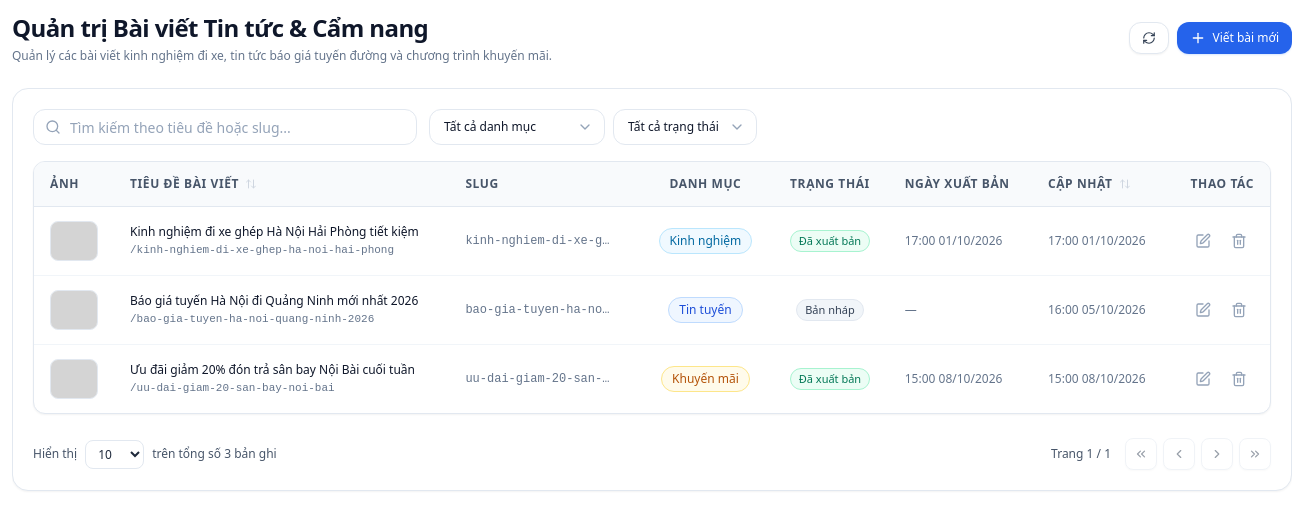
Articles Module (Task T112) › ArticleList Component › lọc bài viết theo danh mục (category)
The width and height of the screenshot is (1304, 508).
Expected: the link "Kinh nghiệm đi xe ghép Hà Nội Hải Phòng tiết kiệm" is shown, [130,224,433,240]
Note: Chọn danh mục "Kinh nghiệm"
Select "Kinh nghiệm" in the dropdown with test id "filter-category-select" at (517, 127), box [429,109,605,145]
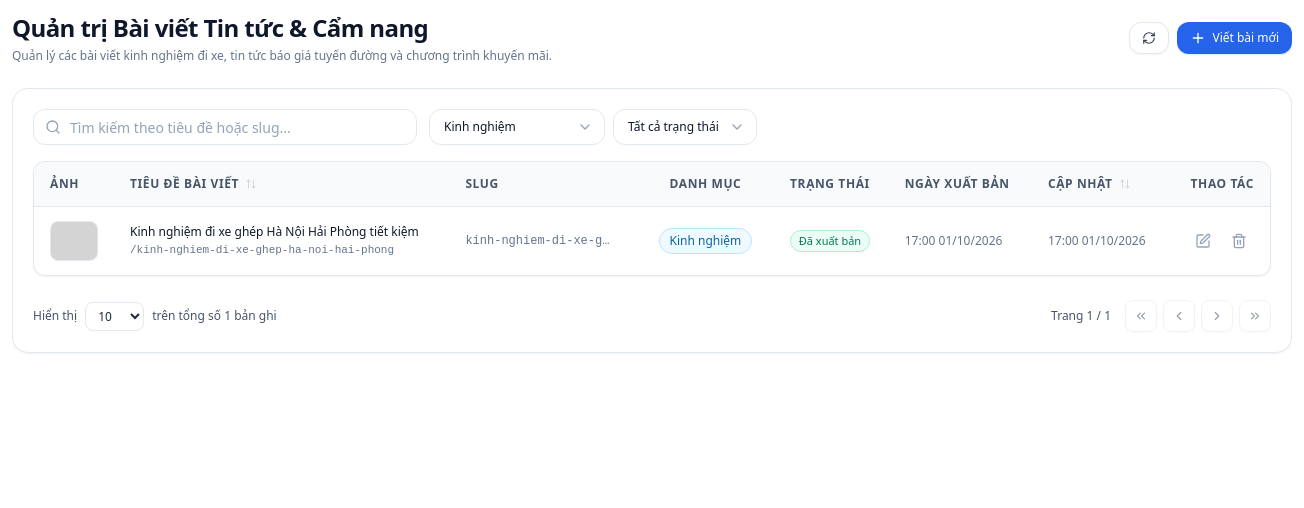
Expected: the link "Kinh nghiệm đi xe ghép Hà Nội Hải Phòng tiết kiệm" is shown, [130,224,433,240]
Now the link "Báo giá tuyến Hà Nội đi Quảng Ninh mới nhất 2026" is gone
Now the link "Ưu đãi giảm 20% đón trả sân bay Nội Bài cuối tuần" is gone
Note: Đổi sang "Khuyến mãi"
Select "Khuyến mãi" in the dropdown with test id "filter-category-select" at (517, 127), box [429,109,605,145]
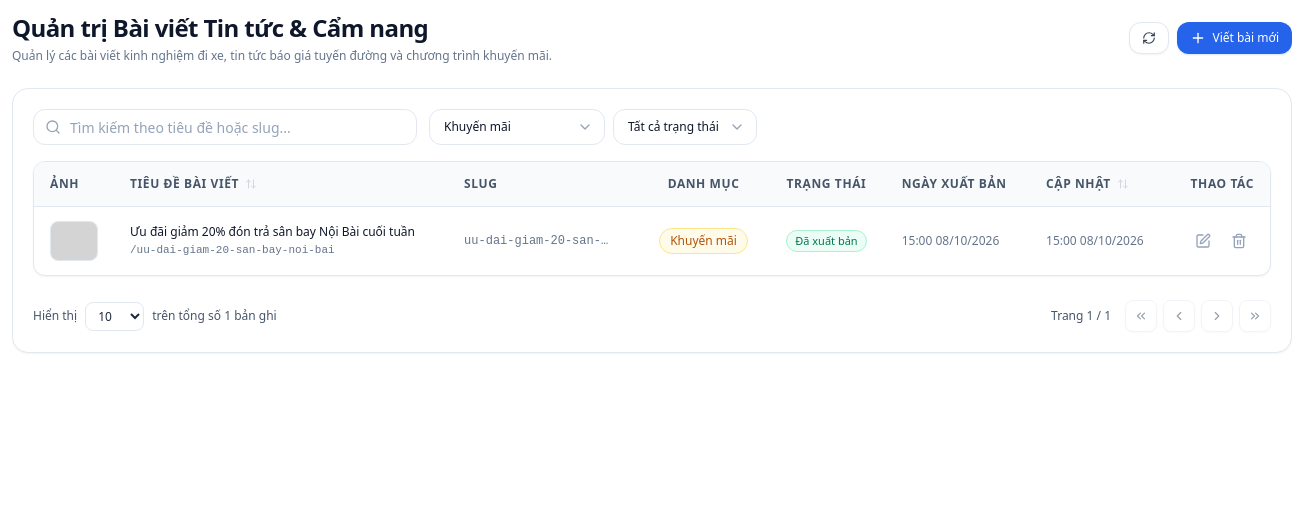
Now the link "Ưu đãi giảm 20% đón trả sân bay Nội Bài cuối tuần" is shown, box [130,224,432,240]
Now the link "Kinh nghiệm đi xe ghép Hà Nội Hải Phòng tiết kiệm" is gone
